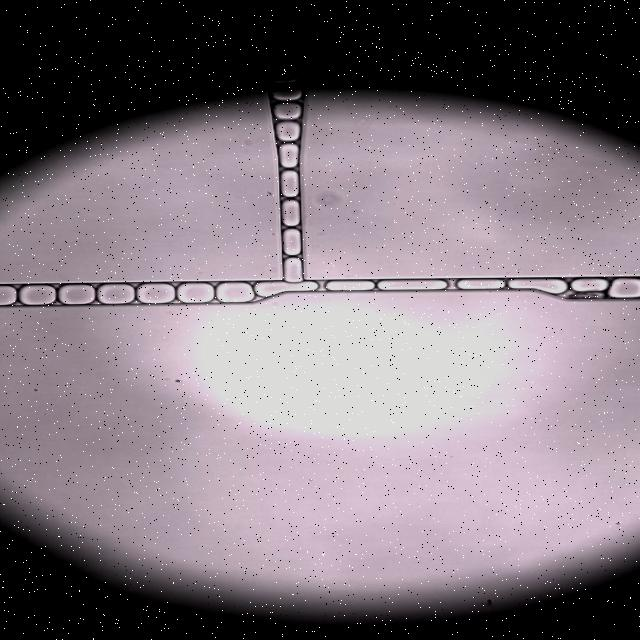L: (326, 280, 374, 291), (278, 143, 299, 168), (275, 122, 300, 142), (281, 170, 299, 197), (571, 279, 608, 292), (282, 200, 300, 226), (283, 229, 301, 255), (271, 86, 302, 101), (457, 279, 503, 289), (273, 103, 300, 120), (283, 258, 302, 282), (270, 74, 299, 85)
S: (255, 282, 317, 297), (508, 279, 567, 294), (18, 285, 56, 305), (97, 284, 135, 304), (136, 284, 175, 303), (177, 283, 214, 303), (59, 284, 95, 304), (378, 280, 447, 290), (217, 283, 253, 302), (608, 279, 640, 298), (0, 286, 15, 305)
